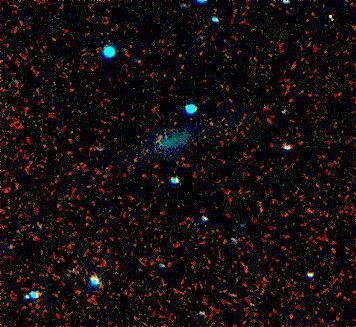star: (314, 4, 344, 34)
